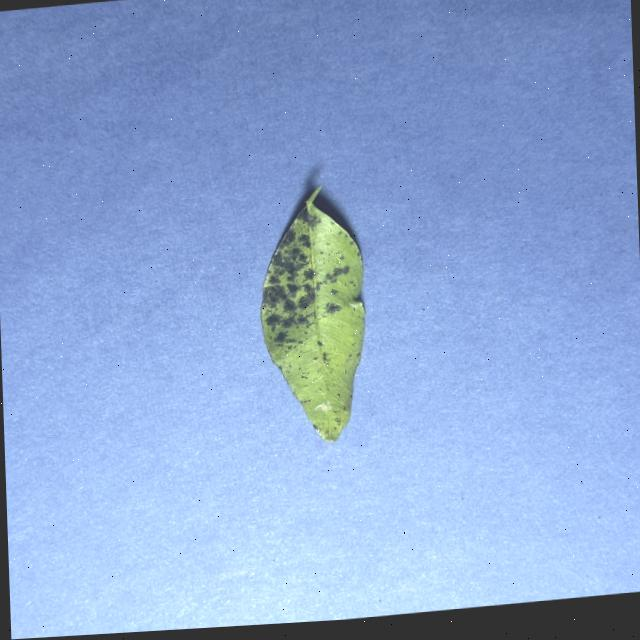sooty_mold: (261, 187, 364, 441)
